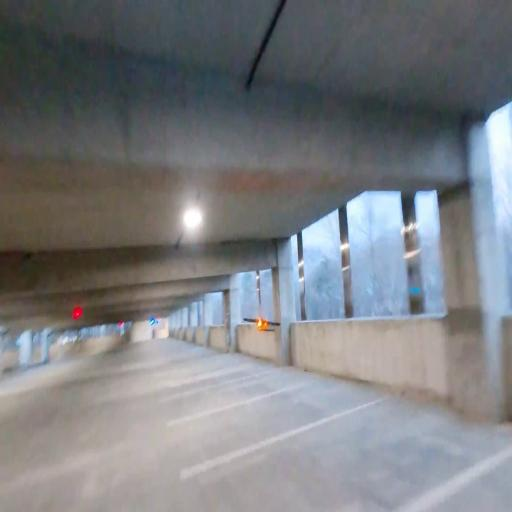uav: (239, 308, 282, 344)
